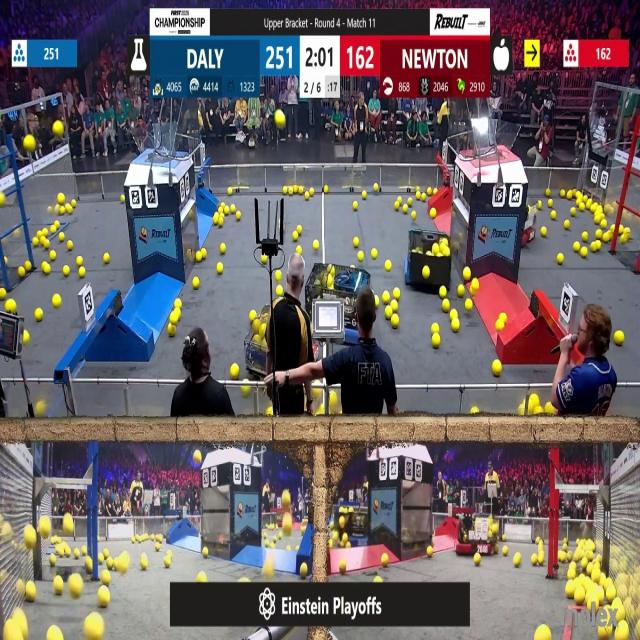ball_airborne: (62, 513, 74, 534), (26, 526, 37, 547), (39, 517, 50, 537), (25, 136, 36, 152), (54, 122, 64, 138), (276, 110, 286, 126), (283, 490, 291, 506), (193, 450, 201, 464), (0, 192, 5, 205)
ball_ground: (69, 576, 83, 598), (98, 587, 110, 607), (27, 583, 37, 602), (573, 590, 584, 605), (55, 578, 64, 596), (615, 332, 625, 347), (34, 403, 44, 418), (231, 363, 240, 379), (492, 359, 501, 375), (265, 564, 275, 578), (5, 301, 15, 314), (102, 569, 110, 584), (566, 584, 574, 599), (168, 322, 176, 336), (299, 563, 307, 577), (198, 571, 207, 583), (606, 588, 614, 601), (463, 268, 470, 282), (432, 335, 439, 349), (391, 314, 398, 328), (515, 553, 522, 567), (390, 301, 398, 313), (42, 263, 50, 275), (422, 268, 430, 280), (544, 404, 552, 416), (443, 301, 451, 312), (392, 288, 400, 299), (441, 286, 448, 298), (36, 309, 43, 321), (473, 554, 480, 566), (558, 552, 566, 562), (470, 408, 478, 418), (534, 407, 542, 417), (56, 295, 62, 308), (341, 560, 347, 573), (382, 554, 388, 567), (17, 268, 24, 279), (465, 301, 472, 312), (383, 291, 390, 302), (573, 551, 580, 562), (375, 575, 383, 584), (192, 278, 198, 290), (24, 333, 30, 345), (49, 554, 55, 566), (532, 554, 538, 566), (318, 405, 324, 417), (520, 406, 526, 418), (78, 268, 85, 278), (582, 233, 589, 243), (63, 267, 70, 277), (104, 252, 110, 263), (458, 285, 464, 296), (558, 253, 564, 264), (427, 545, 433, 556), (107, 558, 113, 569), (220, 243, 226, 254), (241, 576, 249, 584), (596, 231, 603, 240), (451, 310, 458, 319), (582, 248, 589, 257), (216, 265, 222, 275), (353, 238, 359, 248), (386, 262, 392, 272), (566, 552, 572, 562), (268, 408, 274, 418), (204, 548, 210, 558), (33, 238, 39, 248), (249, 311, 255, 321), (564, 220, 571, 228), (76, 256, 83, 264), (314, 241, 320, 250), (429, 209, 435, 218), (49, 251, 55, 260), (357, 251, 363, 260), (604, 233, 610, 242), (292, 233, 298, 242), (60, 206, 66, 215), (27, 263, 32, 273), (195, 251, 200, 261), (75, 550, 80, 560), (81, 544, 86, 554), (371, 249, 376, 259), (546, 200, 552, 208), (560, 189, 566, 197), (175, 298, 181, 306), (502, 545, 507, 554), (353, 202, 358, 210), (361, 190, 366, 198), (68, 240, 72, 250), (223, 207, 228, 215), (323, 185, 328, 193), (237, 212, 242, 220), (66, 549, 71, 557), (571, 208, 575, 217), (71, 201, 76, 208), (538, 202, 542, 210), (296, 246, 300, 254), (155, 542, 159, 550), (296, 224, 300, 232), (408, 200, 414, 205), (346, 541, 351, 547)
goal: (464, 120, 520, 160), (132, 133, 189, 159)
robot_blue: (312, 264, 375, 348), (405, 226, 454, 300), (344, 508, 370, 546)
robot_red: (246, 320, 320, 379), (458, 514, 502, 556)
